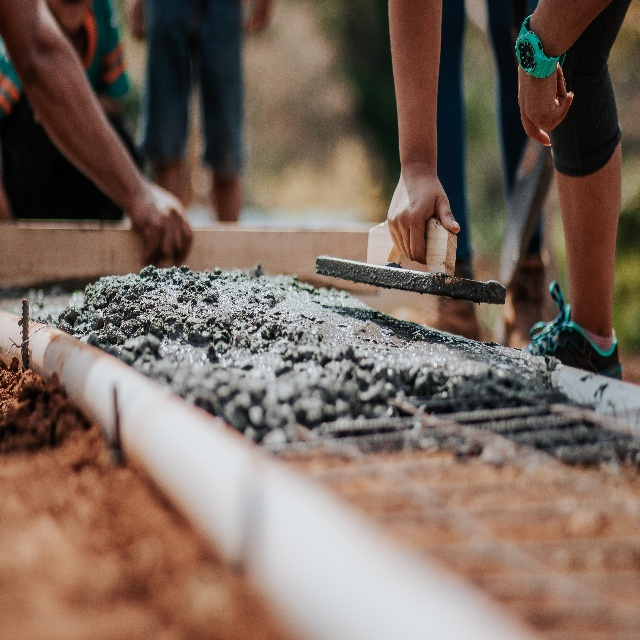Sin_guantes: (387, 165, 461, 264), (129, 184, 192, 268), (517, 61, 575, 147)
